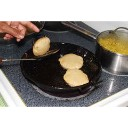poori: (62, 67, 90, 86), (62, 53, 83, 69), (34, 36, 50, 55)
